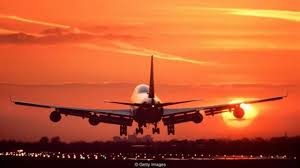maybay_dansu: (11, 58, 286, 142)
